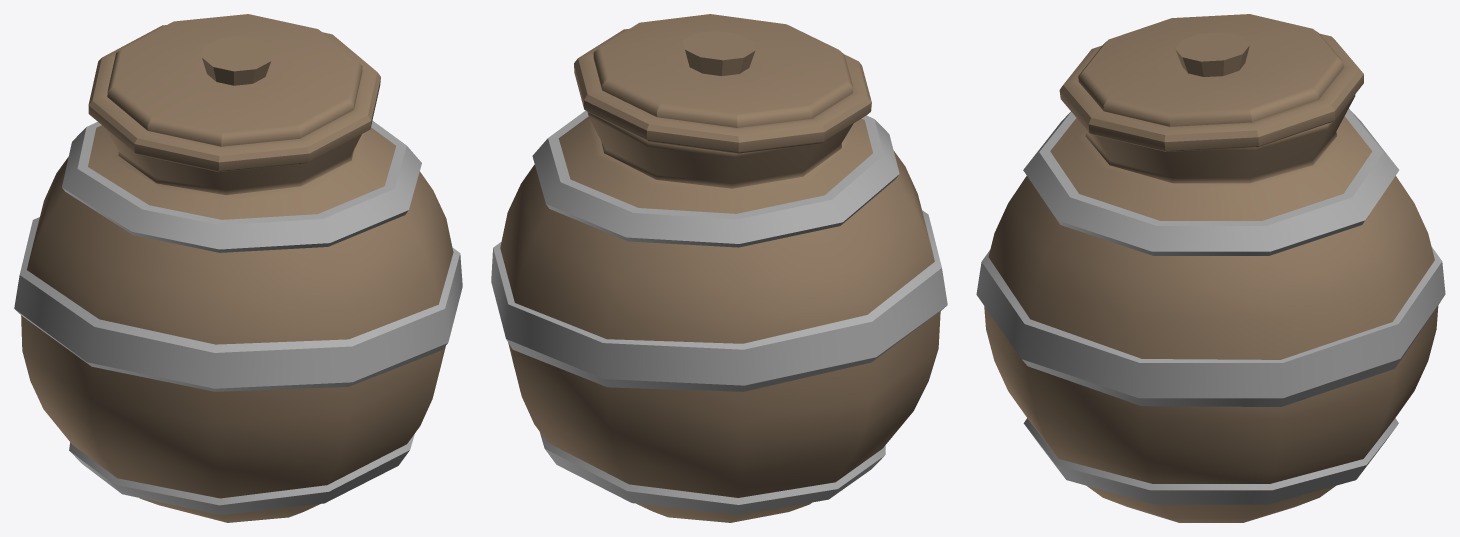
The model's file is large_barrel_01_closed.fbx.
3 views of the same model, side by side, from view 1: azimuth 30°, elevation 25°; view 2: azimuth 150°, elevation 25°; view 3: azimuth 270°, elevation 25° (orthographic).
Parts seen in each view (by area): view 1: barrel, lid; view 2: barrel, lid; view 3: barrel, lid.
Part boxes in pixels (x1,y1,x2,y2): barrel: [14, 120, 462, 522]; lid: [88, 14, 380, 172]; barrel: [491, 110, 947, 522]; lid: [574, 14, 871, 153]; barrel: [976, 94, 1445, 522]; lid: [1059, 14, 1363, 151].
Bounding box in the file's own units: 195 × 211 × 206.
